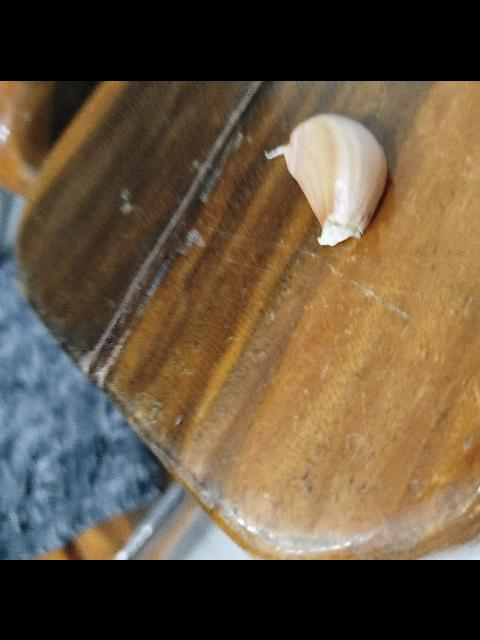garlic: (264, 112, 388, 245)
